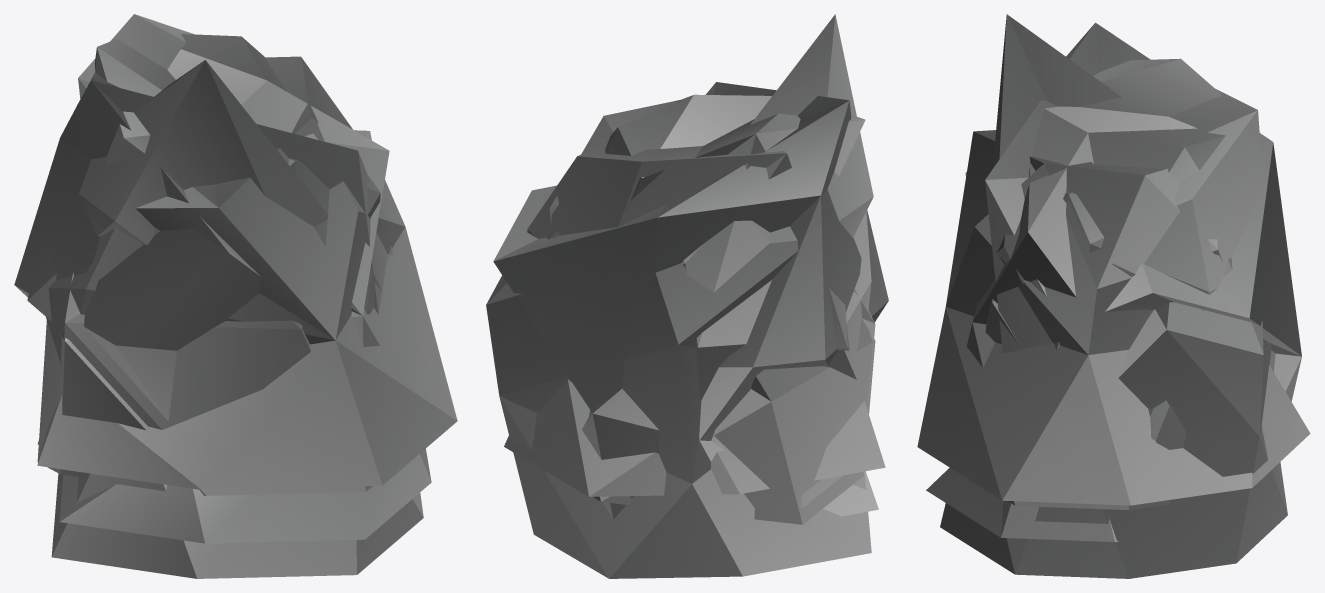
File: Boulders.fbx
3 renders of one model, left to right at view 1: azimuth 30°, elevation 25°; view 2: azimuth 150°, elevation 25°; view 3: azimuth 270°, elevation 25°, orthographic. The views are drawn at different scales.
Visible parts, largest first — view 1: Boulder1, Boulder5, Boulder2, Boulder3, Boulder4; view 2: Boulder2, Boulder5, Boulder3, Boulder1, Boulder4; view 3: Boulder1, Boulder2, Boulder5, Boulder3, Boulder4.
Boxes of the visible parts, <box> form: Boulder1: <box>37,56,457,489</box>; Boulder5: <box>14,72,431,543</box>; Boulder2: <box>27,60,423,578</box>; Boulder3: <box>37,34,389,495</box>; Boulder4: <box>37,14,380,446</box>; Boulder2: <box>486,14,873,578</box>; Boulder5: <box>493,82,888,519</box>; Boulder3: <box>593,94,875,524</box>; Boulder1: <box>504,100,885,496</box>; Boulder4: <box>527,146,875,507</box>; Boulder1: <box>917,130,1310,505</box>; Boulder2: <box>940,14,1287,578</box>; Boulder5: <box>926,22,1301,541</box>; Boulder3: <box>967,58,1225,509</box>; Boulder4: <box>997,89,1275,440</box>.
Bounding box in the file's own units: 218 × 214 × 284.
